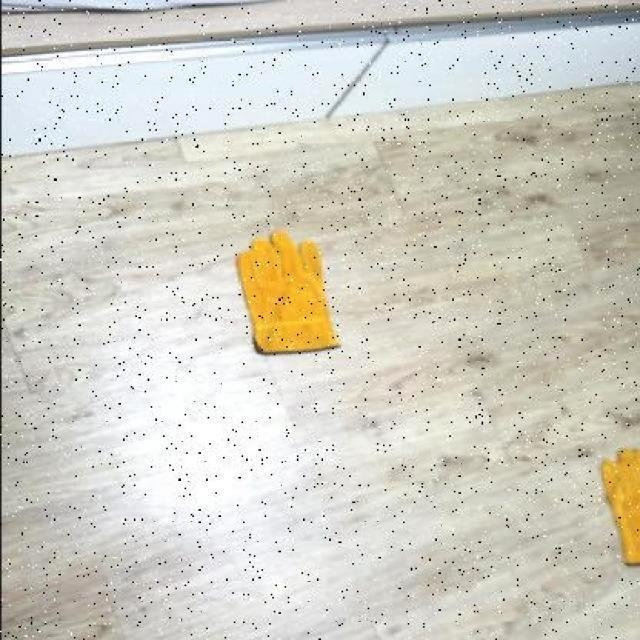Guantes: (233, 228, 341, 355)
